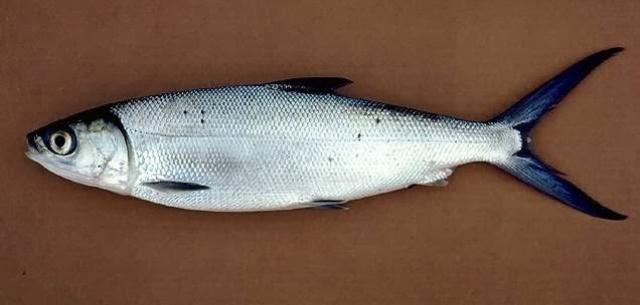Mulut: (8, 116, 52, 179)
Sirip Anal: (388, 155, 464, 197)
Sirip Dada: (128, 160, 218, 218)
Sirip Ekor: (483, 35, 635, 237)
Sirip Perut: (282, 184, 362, 225)
Sirip Punggung: (249, 65, 365, 107)
